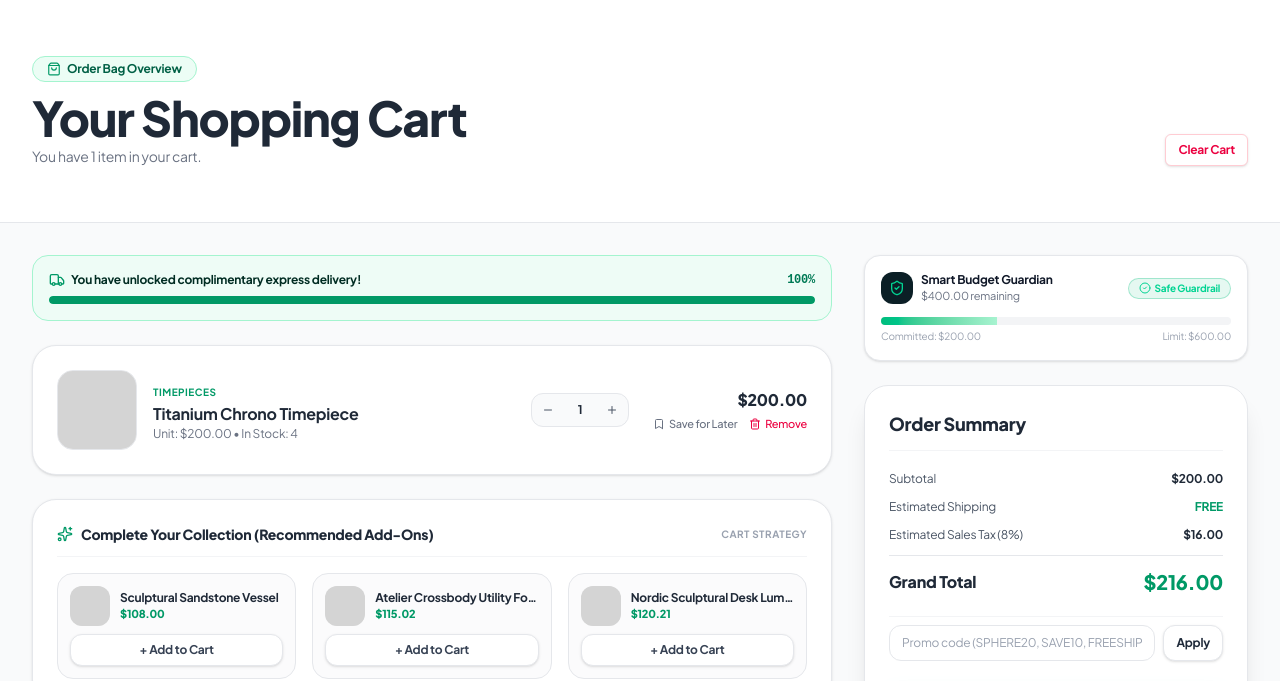
Test: CartPage Component Tests (PRD Section 5.5) › moves item to Save for Later and displays saved section
What coordinates should you click on to do the following:
click the button "Save for Later"
I would click on:
 (695, 424)
Its box is [653,416,737,432].
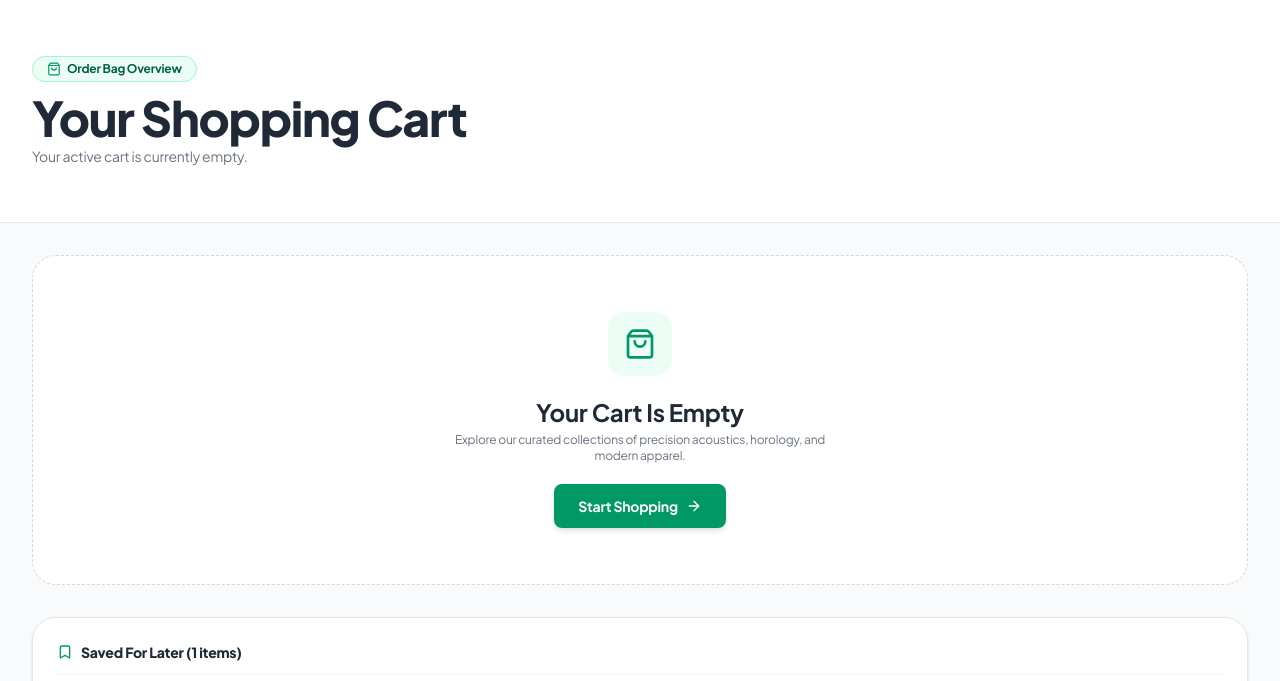
Result: the text "Saved For Later (1 items)" is shown at [81,642,242,662]
